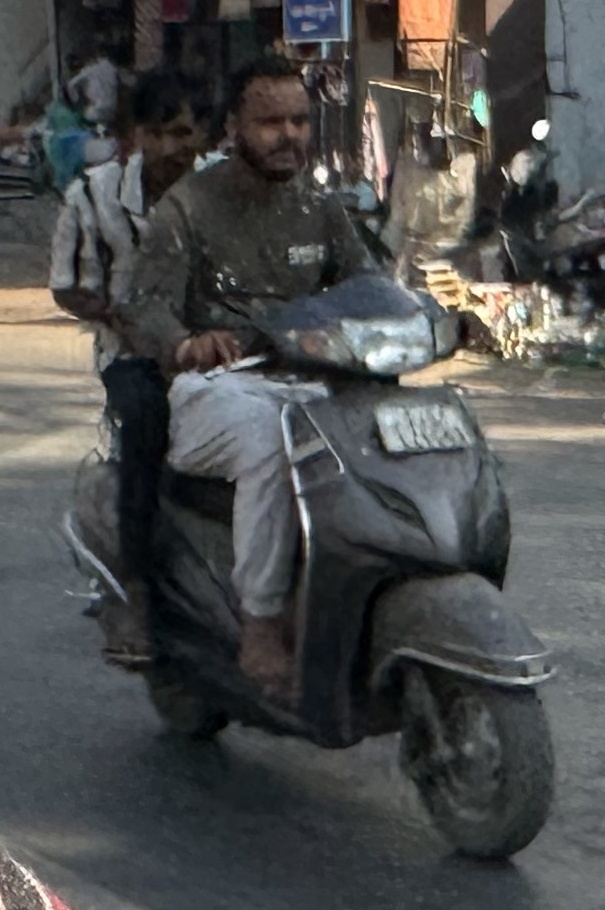BikeWithRider: (36, 37, 576, 873)
NoHelmet: (207, 44, 333, 186), (105, 60, 222, 201)
